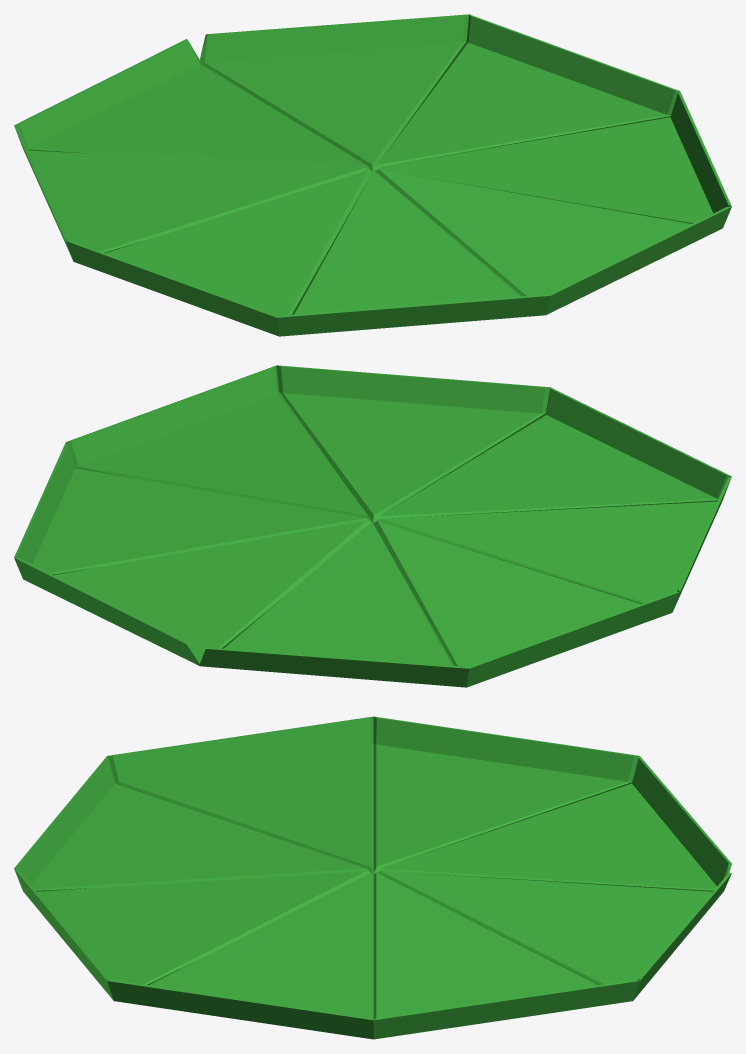
The model's file is FrogWaterLily.fbx.
The picture shows the model from 3 angles, top to bottom: view 1: azimuth 30°, elevation 25°; view 2: azimuth 150°, elevation 25°; view 3: azimuth 270°, elevation 25°; orthographic projection.
Visible parts, largest first — view 1: Plane; view 2: Plane; view 3: Plane.
Part boxes in pixels (bbox=[...]): Plane: bbox=[14, 14, 731, 336]; Plane: bbox=[14, 365, 731, 687]; Plane: bbox=[14, 716, 731, 1039].
Bounding box in the file's own units: 277 × 9.94 × 277.
